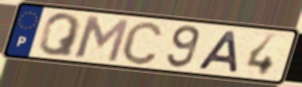4: (244, 32, 278, 78)
9: (165, 24, 201, 69)
A: (194, 29, 241, 74)
C: (119, 19, 165, 66)
M: (73, 14, 132, 64)
Q: (37, 12, 84, 59)
